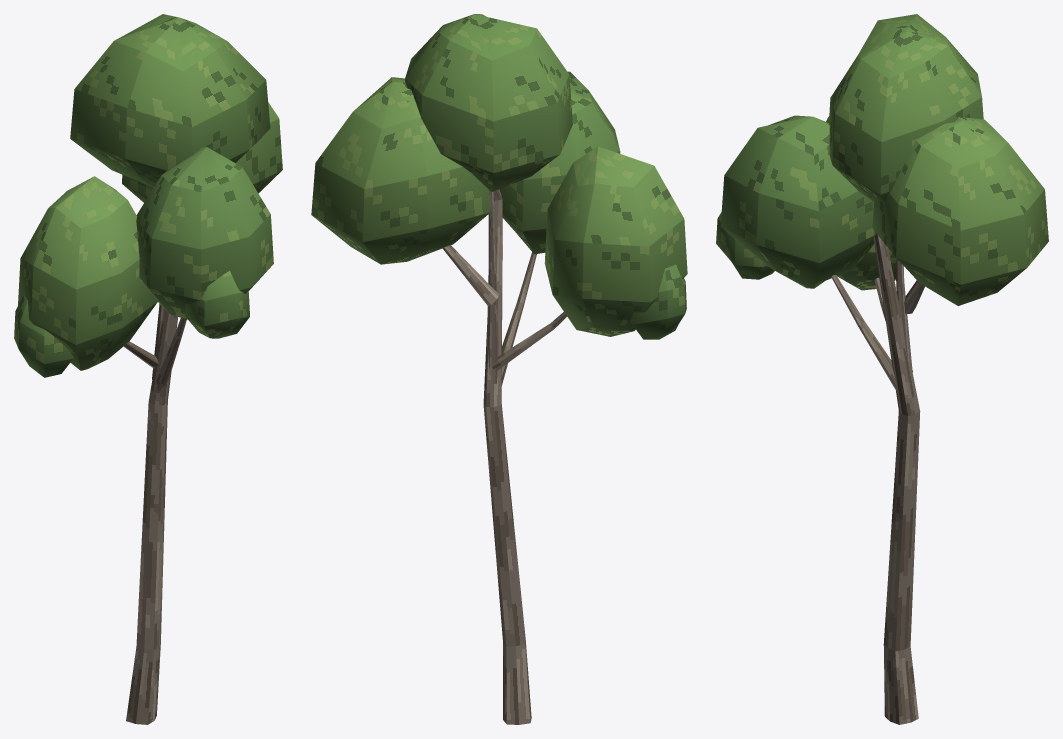
File: t_tree_young.glb
The picture shows the model from 3 angles, left to right: view 1: azimuth 30°, elevation 25°; view 2: azimuth 150°, elevation 25°; view 3: azimuth 270°, elevation 25°; orthographic projection. The views are drawn at different scales.
Parts seen in each view (by area): view 1: t_tree_young_mesh; view 2: t_tree_young_mesh; view 3: t_tree_young_mesh.
Boxes of the visible parts, box(x1,y1,x2,y2) form: t_tree_young_mesh: box(14, 14, 282, 724); t_tree_young_mesh: box(311, 14, 687, 724); t_tree_young_mesh: box(716, 14, 1048, 724).
Size of the model in its own units: 1.2 by 2.6 by 1.11.
Materials: 1 (1 with a texture image).
